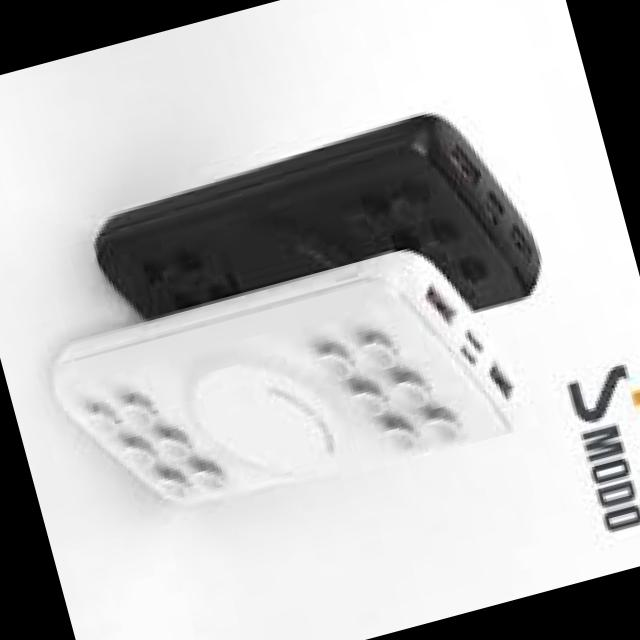power_bank: (39, 230, 532, 552), (80, 88, 555, 402)
